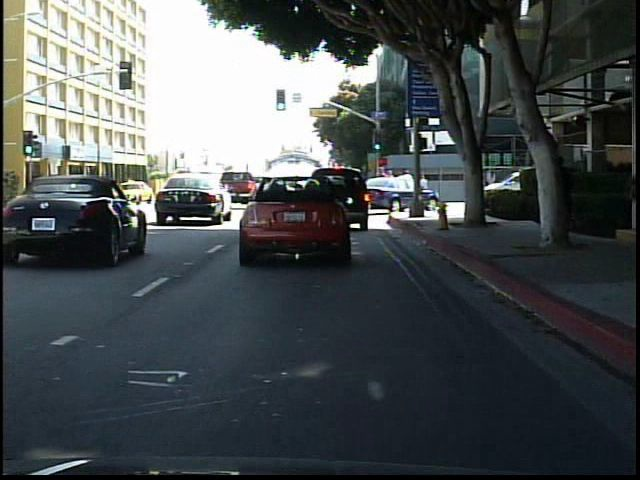person: (543, 149, 569, 239), (119, 176, 137, 203)
